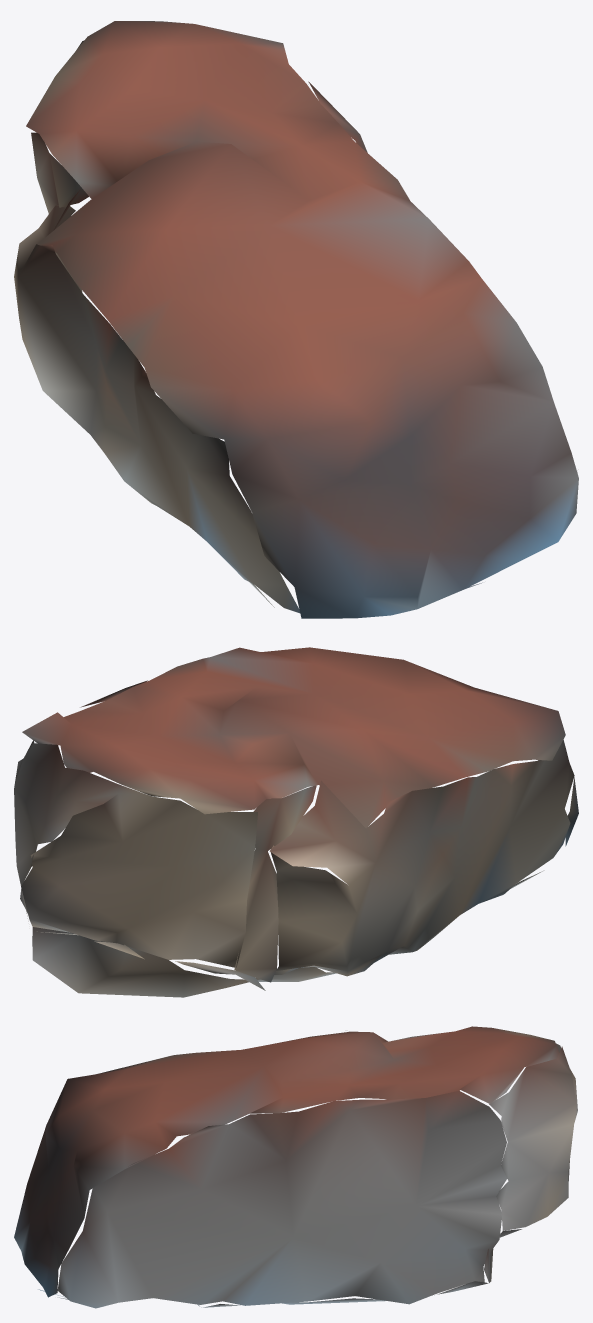
The model's file is rock_07.glb.
The picture shows the model from 3 angles, top to bottom: view 1: azimuth 30°, elevation 25°; view 2: azimuth 150°, elevation 25°; view 3: azimuth 270°, elevation 25°; orthographic projection. The views are drawn at different scales.
Visible parts, largest first — view 1: v0_lod0; view 2: v0_lod0; view 3: v0_lod0.
Part boxes in pixels (left/top/right/bottom): v0_lod0: left=14, top=21, right=578, bottom=618; v0_lod0: left=14, top=647, right=578, bottom=997; v0_lod0: left=14, top=1026, right=577, bottom=1308.
Size of what is drawn, in the model's own units: 0.1696 by 0.1432 by 0.3198.
